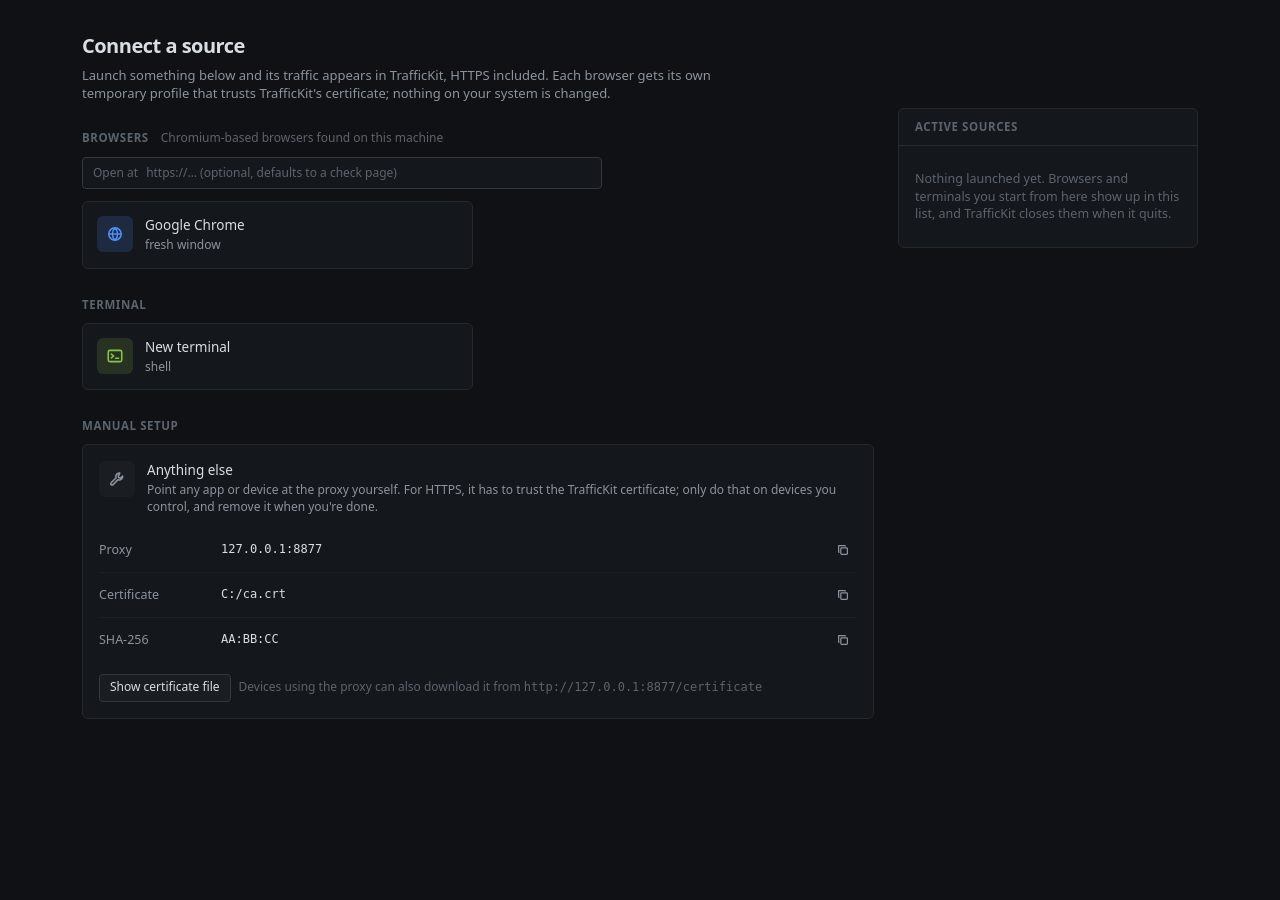
Test: ConnectView › shows launch errors with their hint
Click the button "Google Chrome fresh window".
click(115, 234)  # box [82,201,473,269]
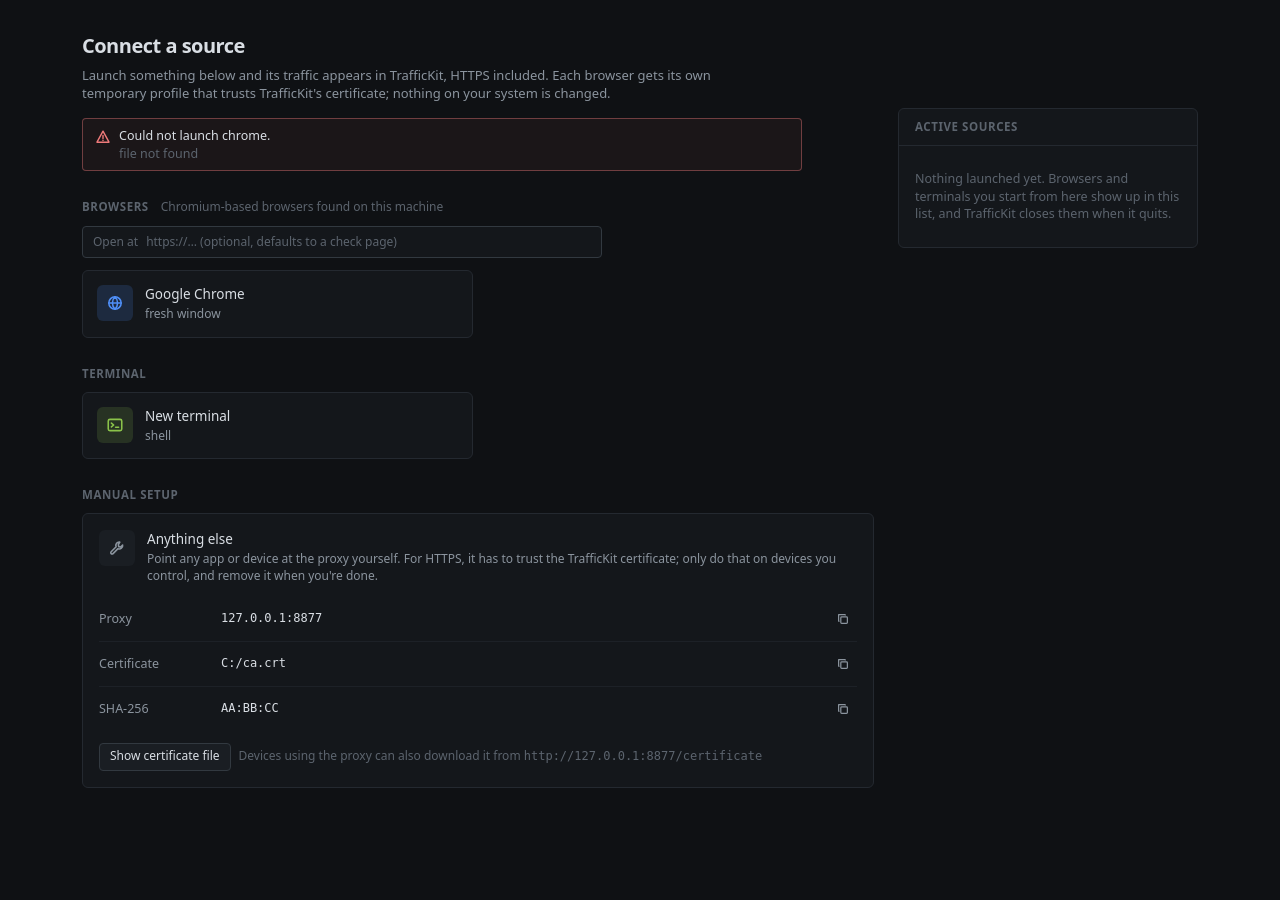
Result: the text "Could not launch chrome." is shown at [119,127,270,144]
Result: the text "file not found" is shown at [119,145,198,162]
